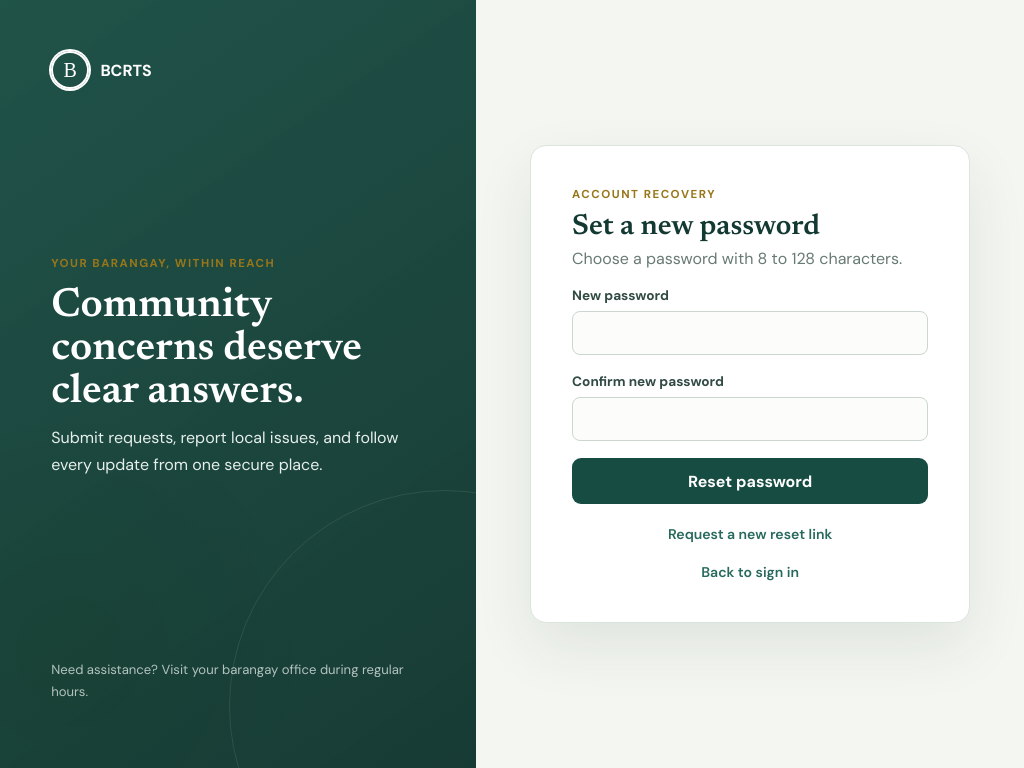
Password recovery › validates confirmation and resets the password using the link token
The image size is (1024, 768).
In the password field labelled "New password": coordinates (750, 333) [572,311,928,355], type "new-password"
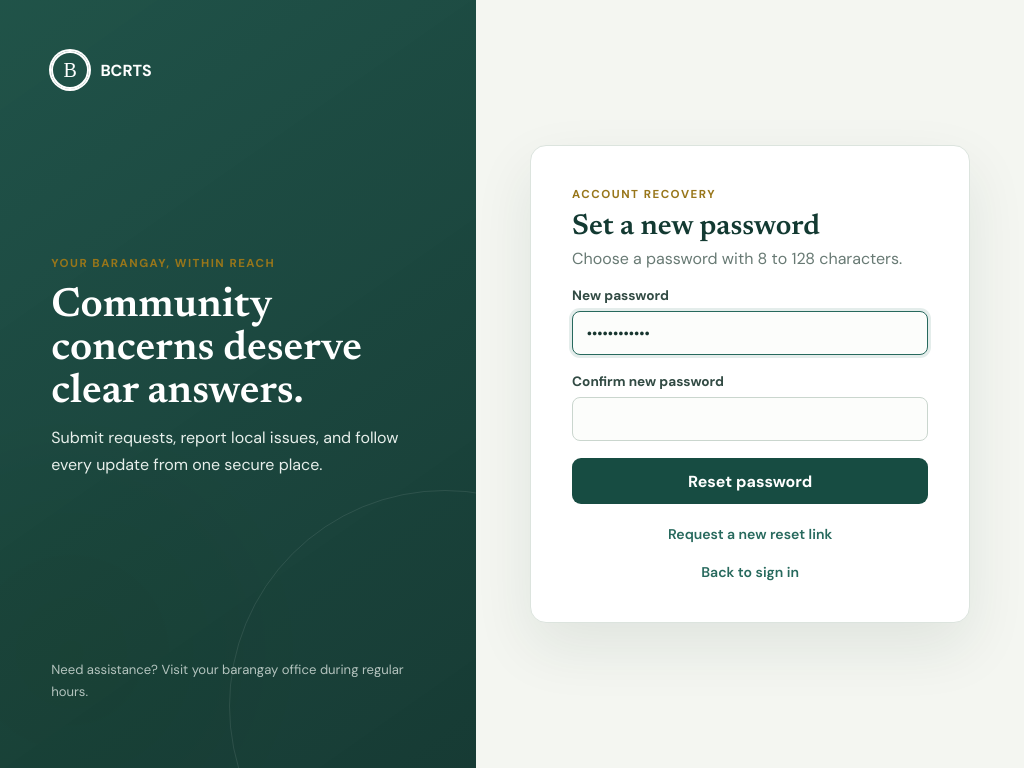
In the password field labelled "Confirm new password": coordinates (750, 419) [572,397,928,441], type "wrong-password"
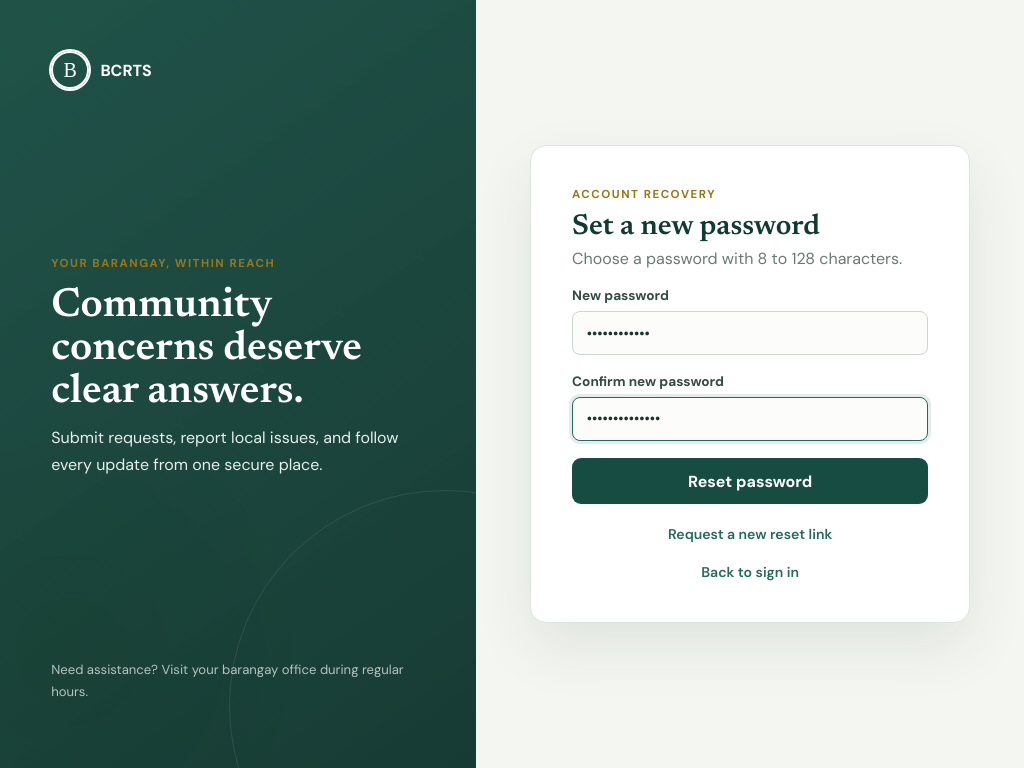
Click the button "Reset password": coordinates (750, 481) [572,458,928,504]
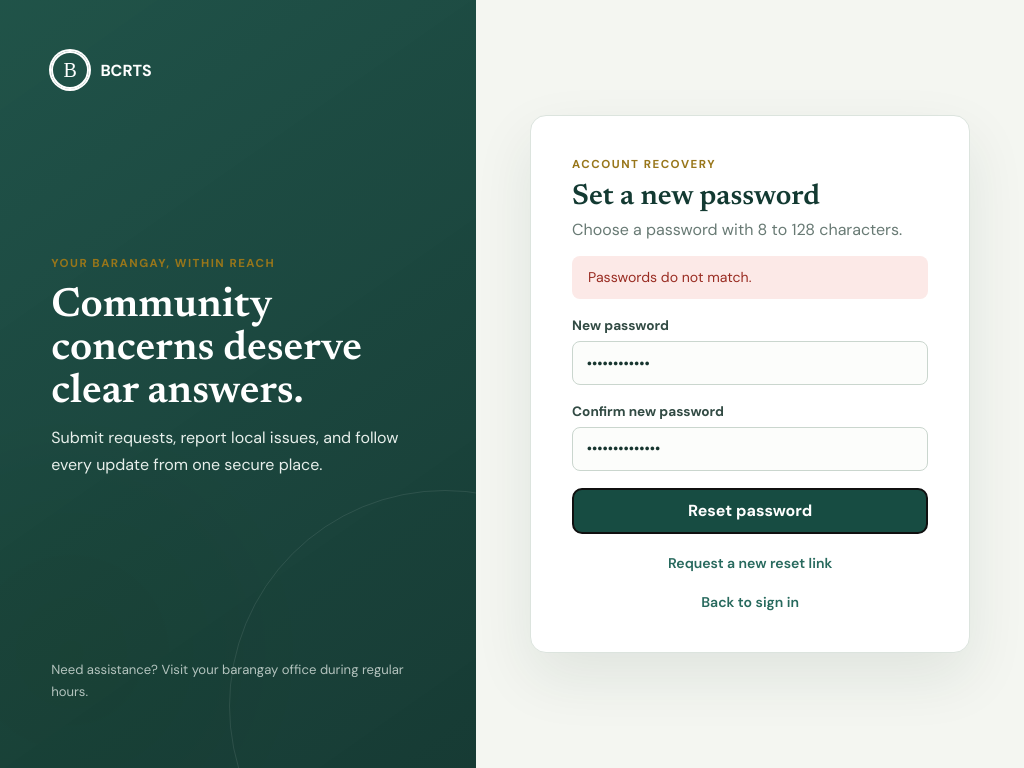
Now the message shows "Passwords do not match", box [588,268,752,286]
In the password field labelled "Confirm new password": coordinates (750, 449) [572,427,928,471], type "new-password"
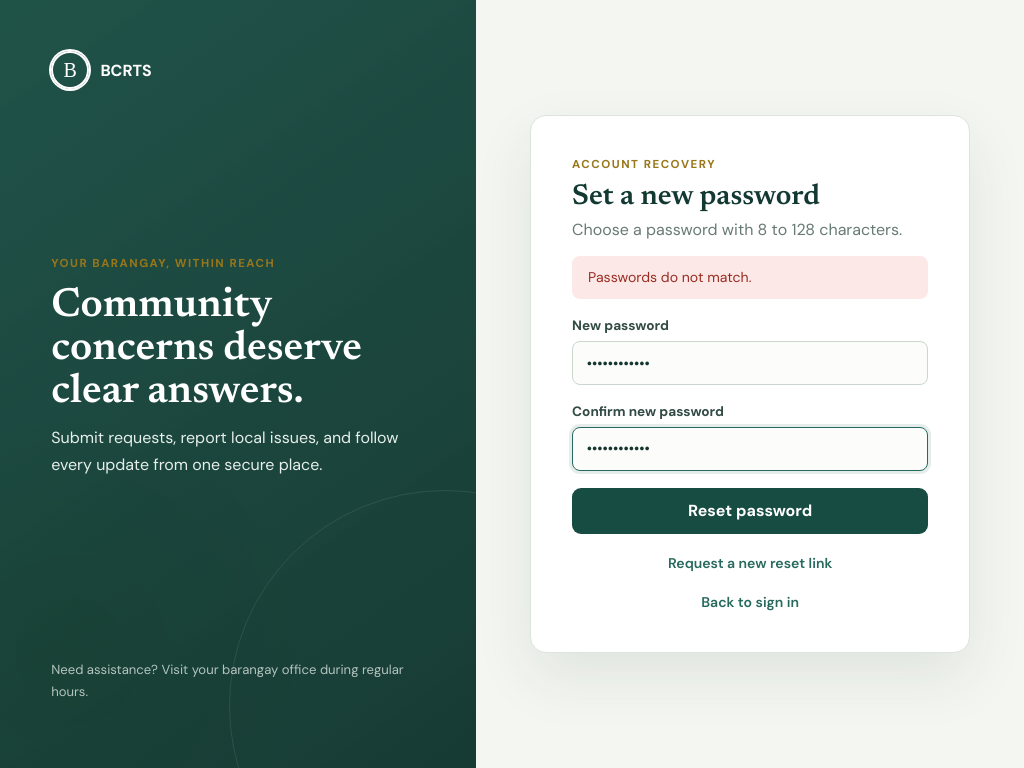
Click the button "Reset password": coordinates (750, 511) [572,488,928,534]
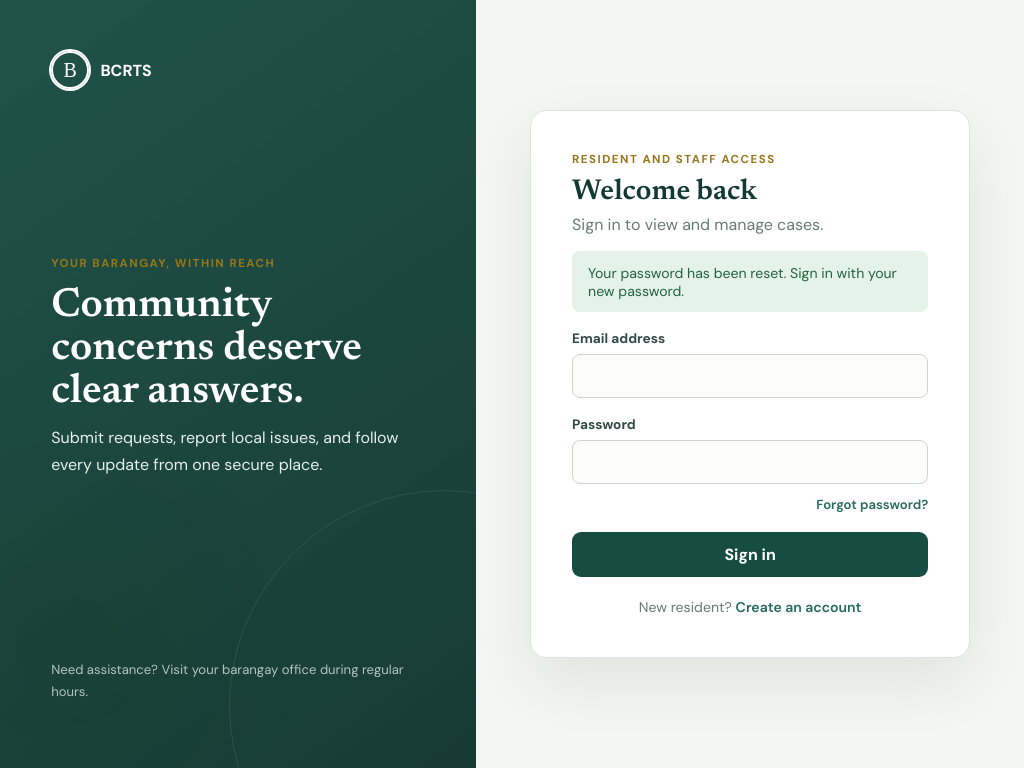
Now the heading "Welcome back" is shown, box [572,178,757,207]
Now the message shows "Your password has been reset", box [588,264,897,300]
Now the password field labelled "Password" is empty, box [572,440,928,484]
